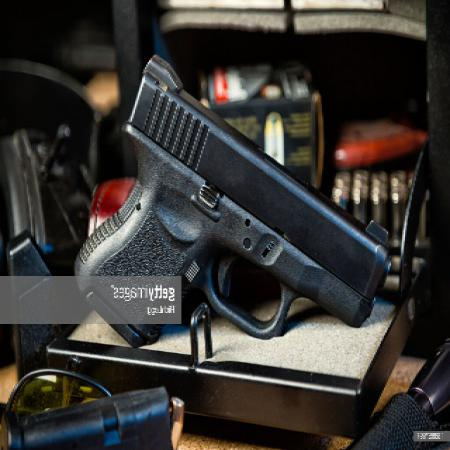Pistol: (72, 43, 390, 341)
